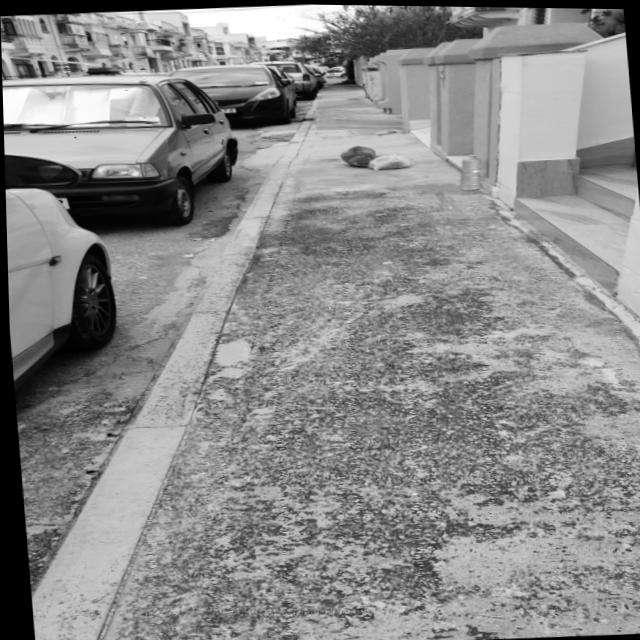Recyclable Material -Grey Bags-: (367, 154, 412, 170)
